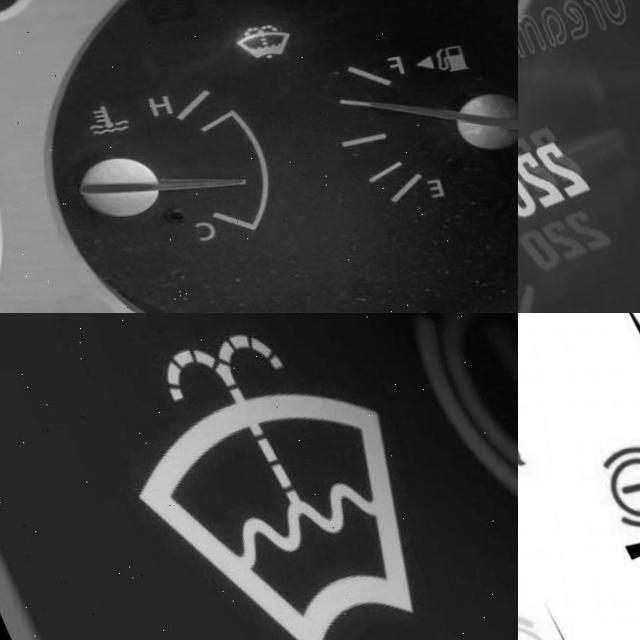Washer Fluid: (114, 333, 407, 640), (226, 26, 284, 62)
